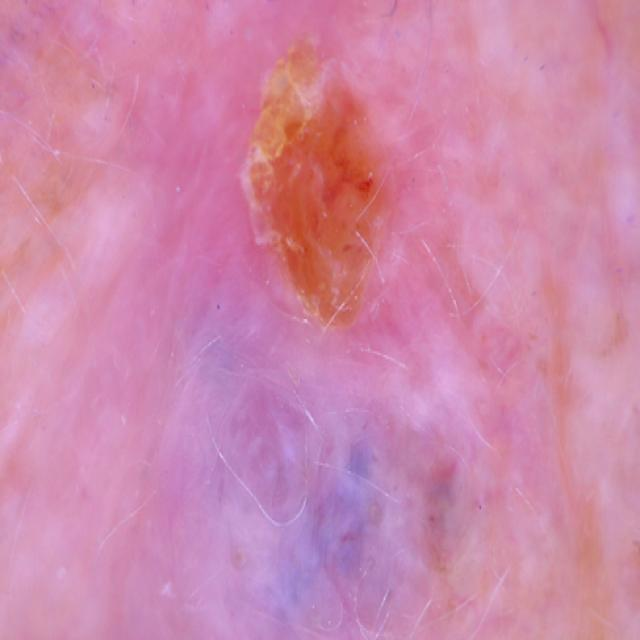Carcinoma: (173, 381, 457, 640), (215, 56, 461, 319)
